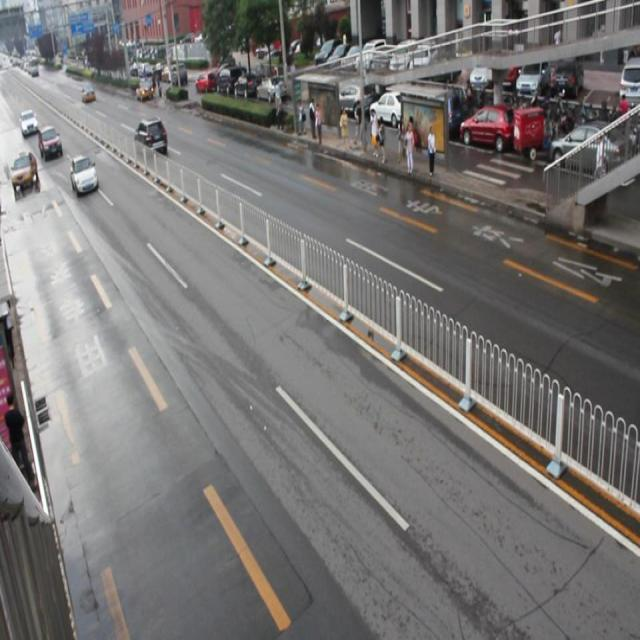car: (69, 152, 98, 196), (134, 119, 168, 155)
